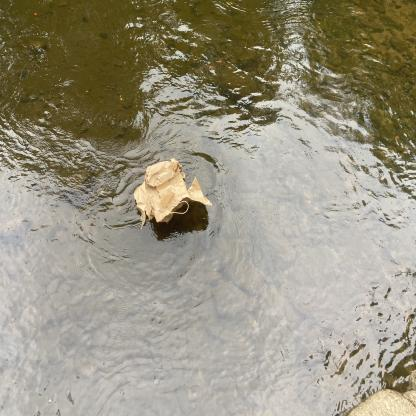trash: (130, 154, 218, 234)
